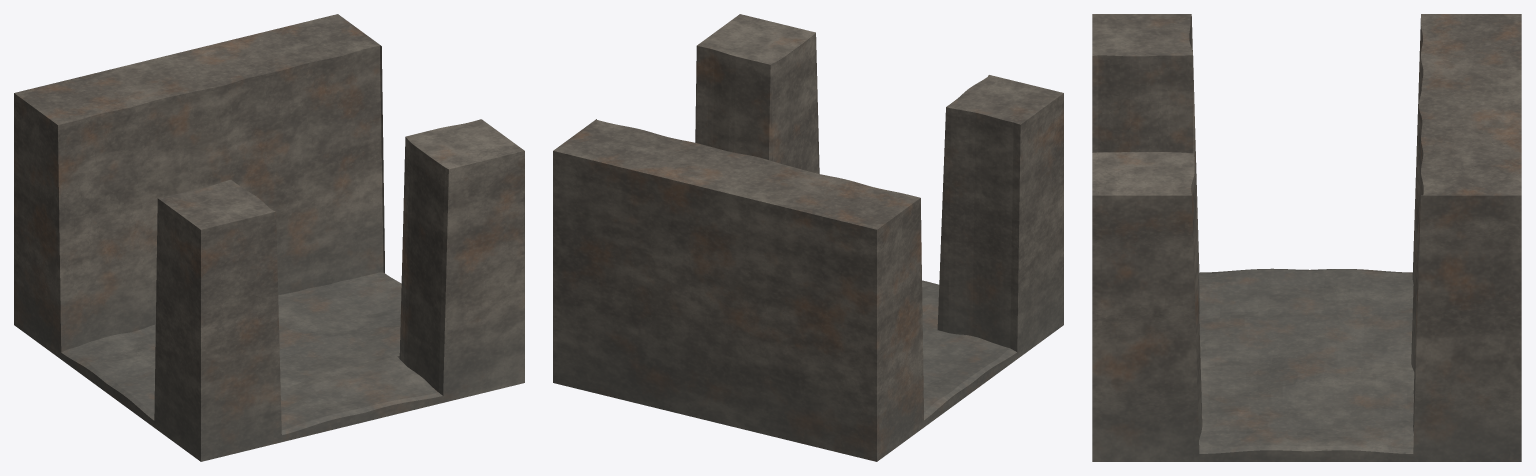
File: dungeon_cave_wall_floor.glb
3 renders of one model, left to right at view 1: azimuth 30°, elevation 25°; view 2: azimuth 150°, elevation 25°; view 3: azimuth 270°, elevation 25°, orthographic. The views are drawn at different scales.
Parts seen in each view (by area): view 1: dungeon_cave_wall_floor; view 2: dungeon_cave_wall_floor; view 3: dungeon_cave_wall_floor.
Boxes of the visible parts, bbox=[...] form: dungeon_cave_wall_floor: bbox=[14, 14, 524, 461]; dungeon_cave_wall_floor: bbox=[553, 14, 1063, 461]; dungeon_cave_wall_floor: bbox=[1092, 14, 1521, 461].
Size of the model in its own units: 5.05 by 3.46 by 5.05.
Materials: 1 (1 with a texture image).
